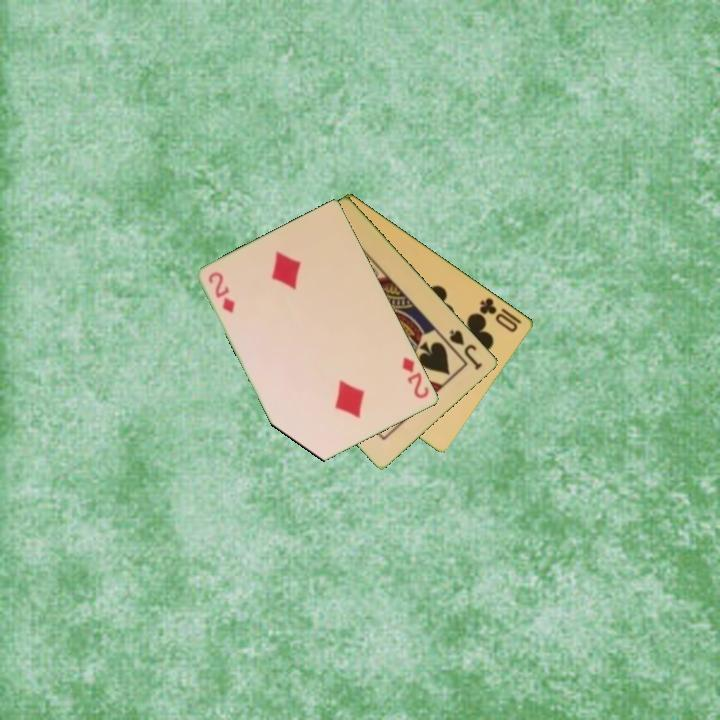10c: (476, 294, 521, 335)
2d: (399, 353, 432, 402), (205, 268, 238, 316)
Js: (446, 326, 486, 373)
